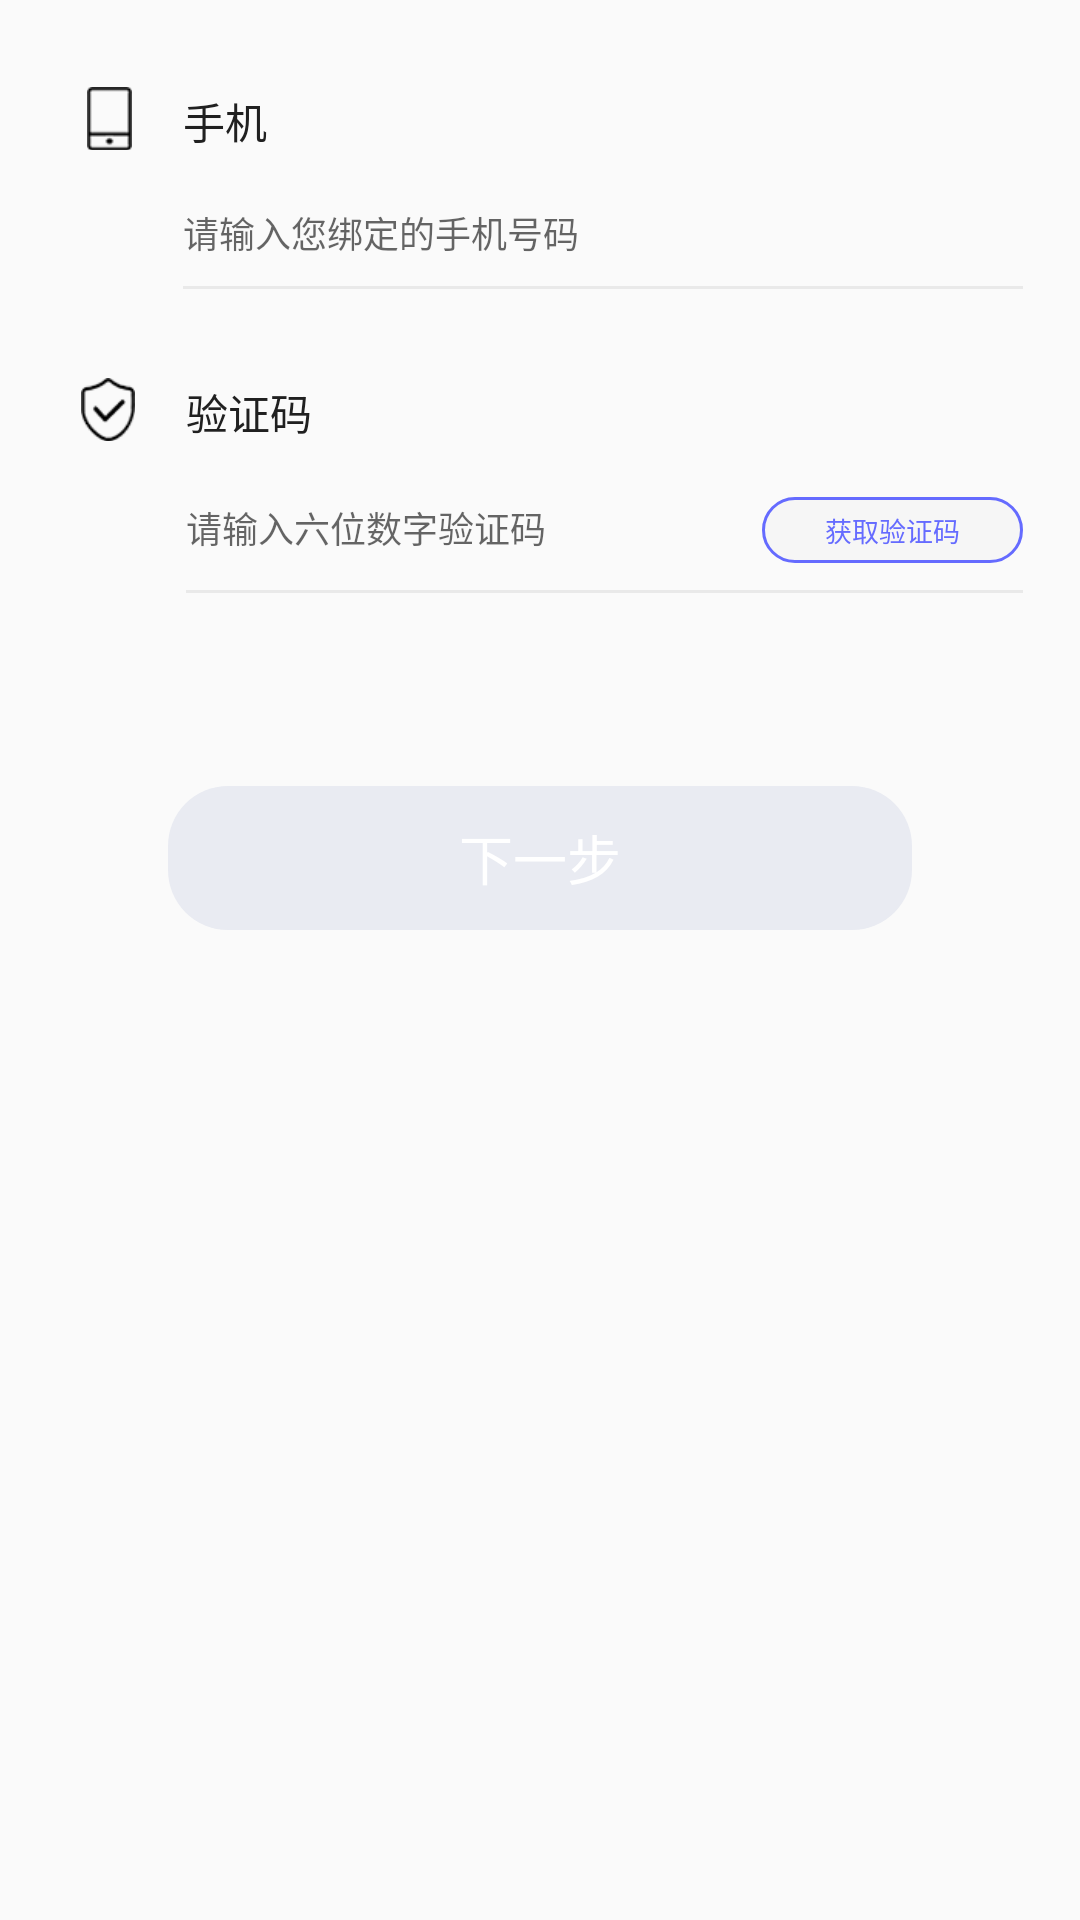

Named icons in this screenshot (1080px×1920px) and their centers, (x=x, y=y):
forget check code: (x=108, y=409)
forget phone: (x=109, y=118)
